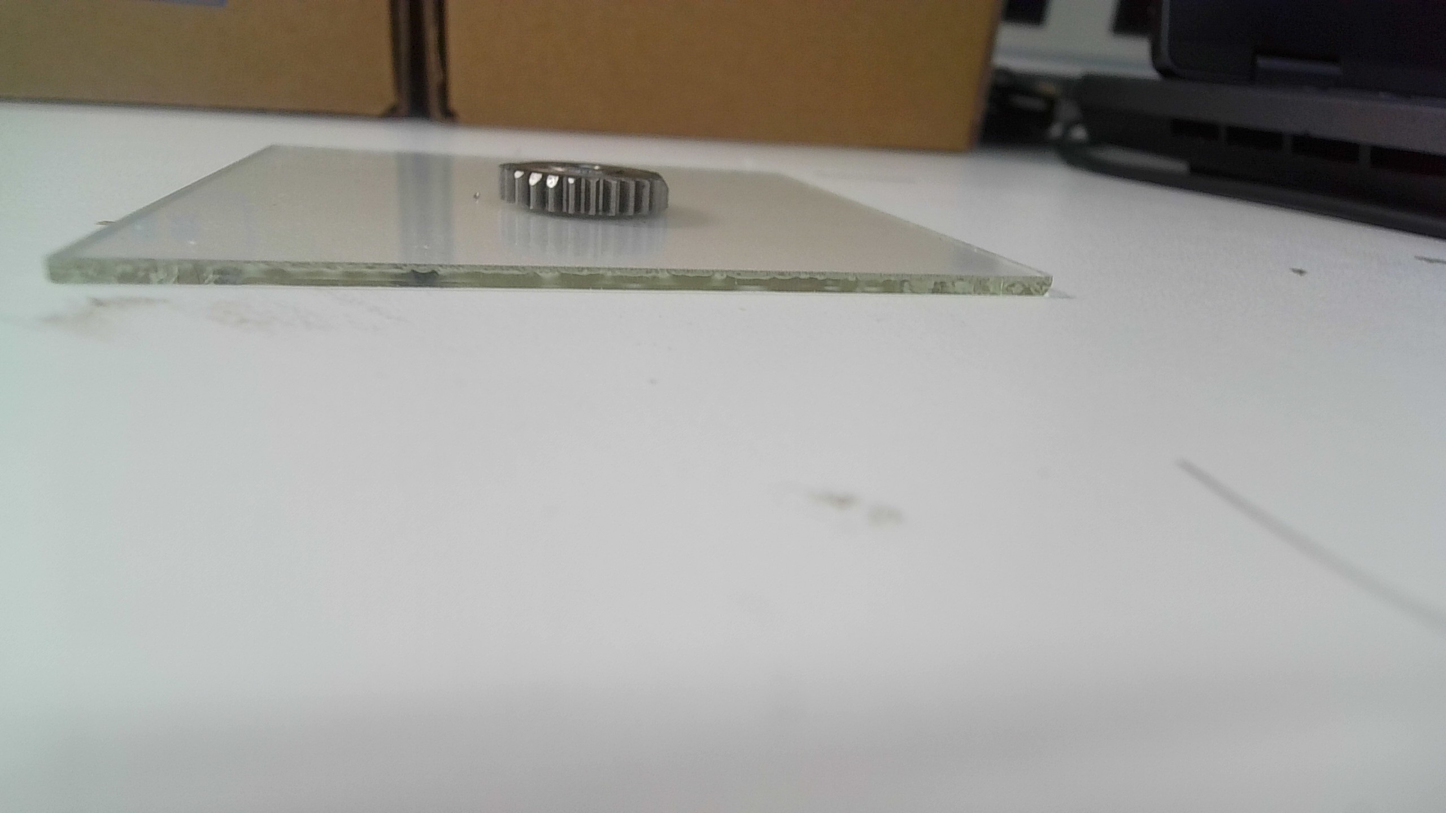gear: (496, 160, 672, 224)
